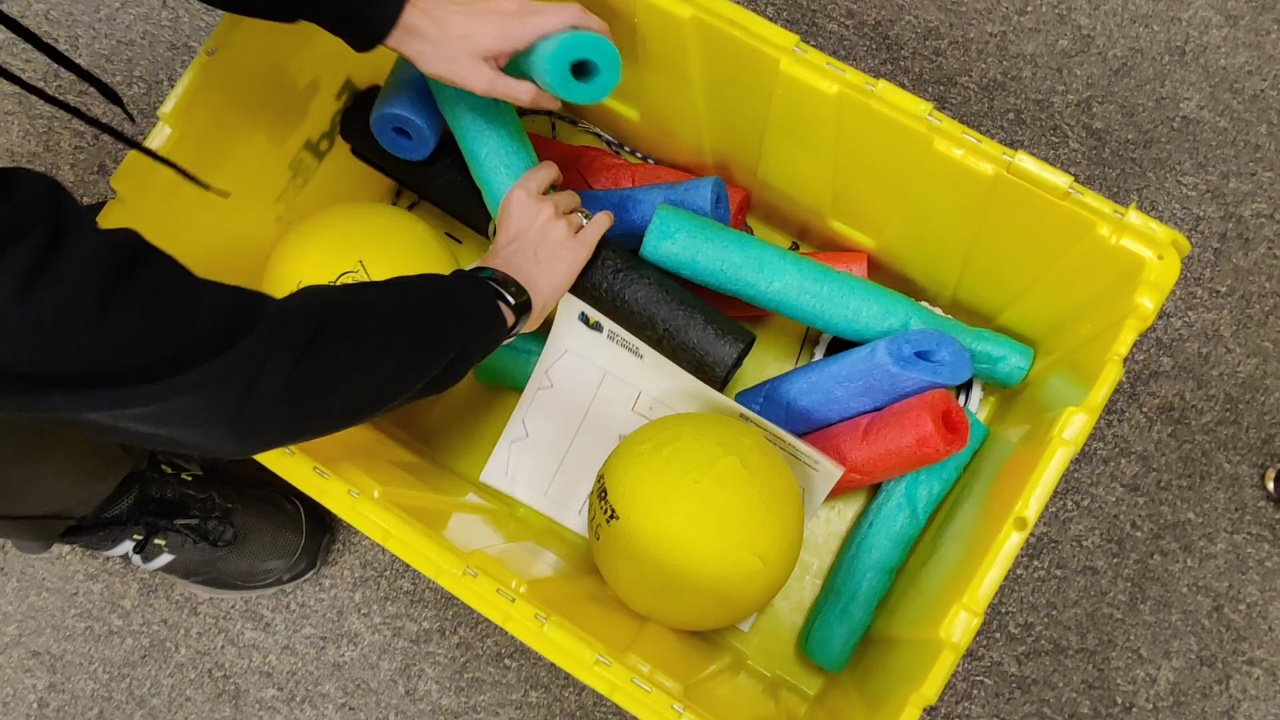Ball: (587, 410, 806, 626), (267, 207, 445, 284)
